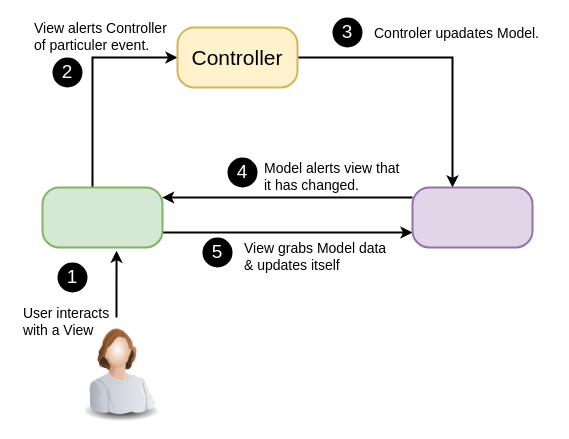
This 569x439 diagram has some shape labels left out. The shapes that lost their labels are listed below. From the top down, each one's centre as x and y in pixels, then its label:
the point at 102,217: View
the point at 472,217: Model
